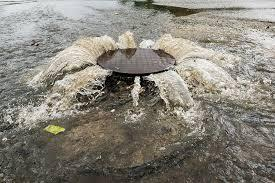drainage overflow-repair-: (28, 19, 233, 141)
